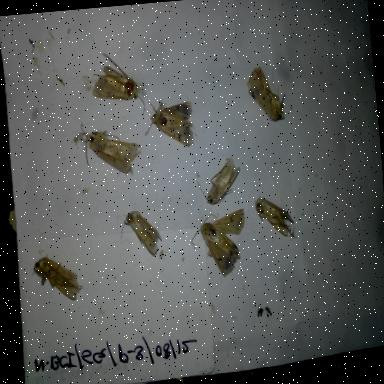abw: (186, 207, 253, 284), (70, 116, 146, 182), (83, 46, 148, 119), (140, 96, 202, 153), (190, 152, 246, 212), (241, 60, 290, 127), (31, 250, 84, 306), (250, 190, 300, 246), (121, 204, 166, 266)
